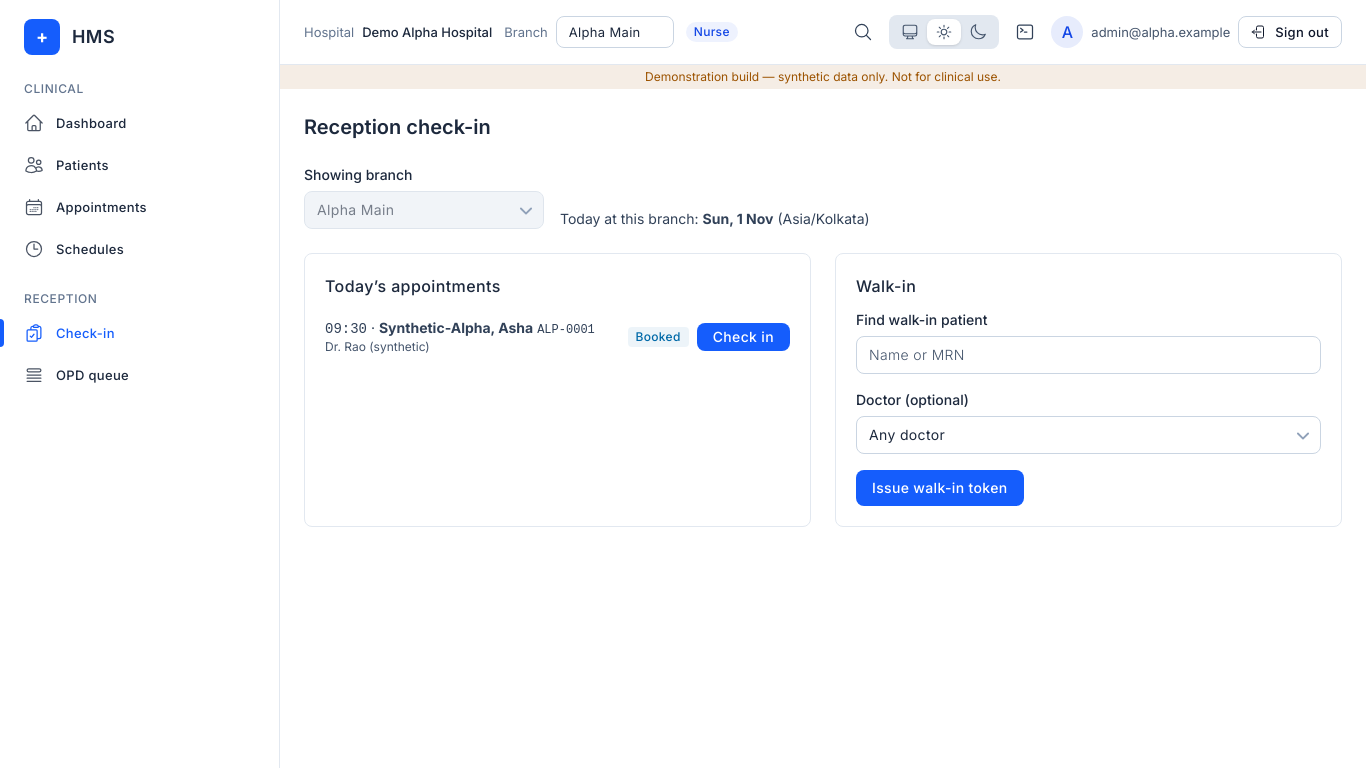
Test: CheckInPage › maps 409 already_checked_in to a clear message
Click the button "Check in" at coordinates (743, 336), box [697, 322, 790, 350]
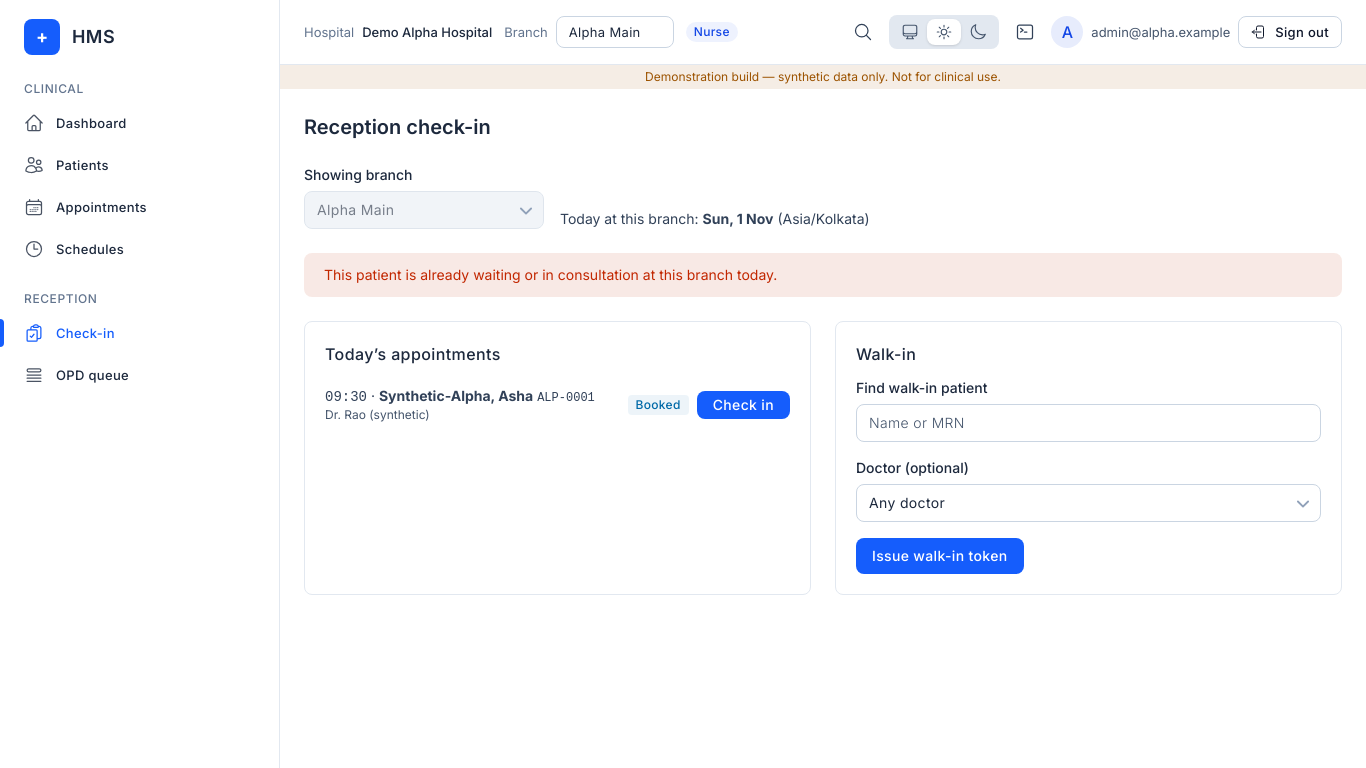
Result: the message shows "already waiting or in consultation" at [324, 266, 777, 283]
